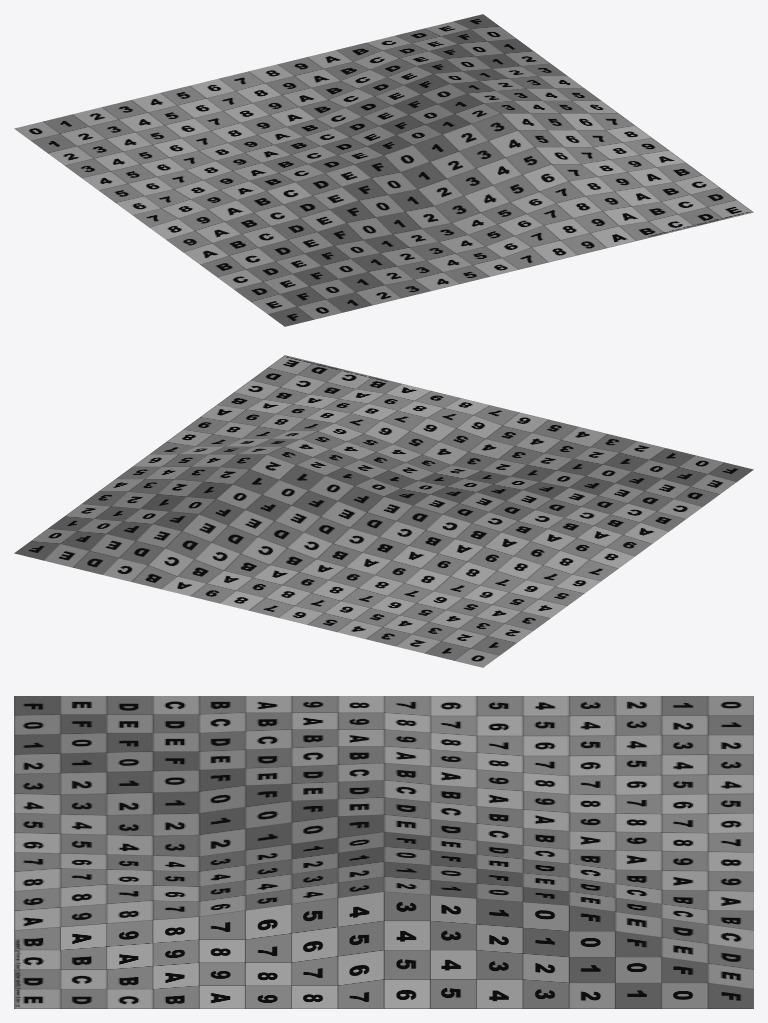
Rendered from FloorTile2.fbx.
The picture shows the model from 3 angles, top to bottom: view 1: azimuth 30°, elevation 25°; view 2: azimuth 150°, elevation 25°; view 3: azimuth 270°, elevation 25°; orthographic projection. The views are drawn at different scales.
Parts seen in each view (by area): view 1: pPlane7; view 2: pPlane7; view 3: pPlane7.
Part boxes in pixels (x1,y1,x2,y2): pPlane7: (14, 14, 753, 326); pPlane7: (14, 355, 753, 667); pPlane7: (14, 696, 753, 1008).
Bounding box in the file's own units: 1 × 0.0646 × 1.
Materials: 1 (1 with a texture image).
